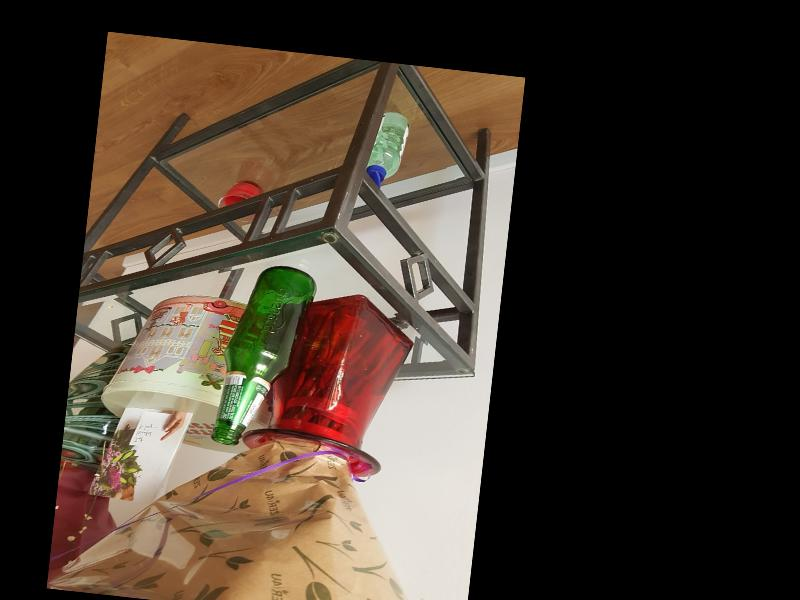Beer: (212, 259, 317, 453)
